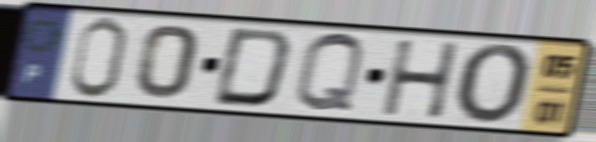0: (131, 22, 203, 103), (69, 14, 130, 102)
D: (209, 25, 297, 111)
H: (380, 38, 463, 121)
O: (453, 41, 537, 129)
Q: (291, 30, 367, 117)
